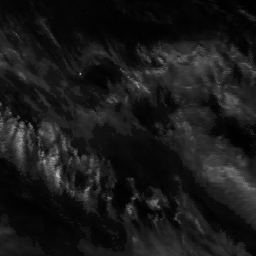Target: (77, 71, 83, 76)
